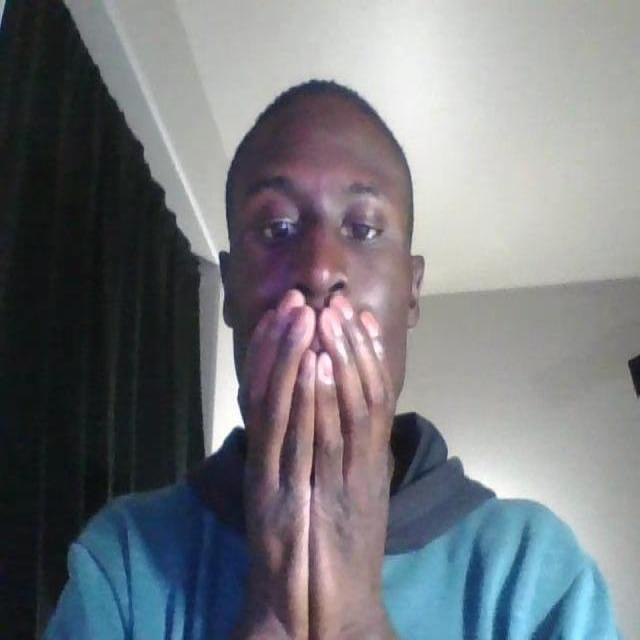no-helmet: (230, 152, 413, 415)
